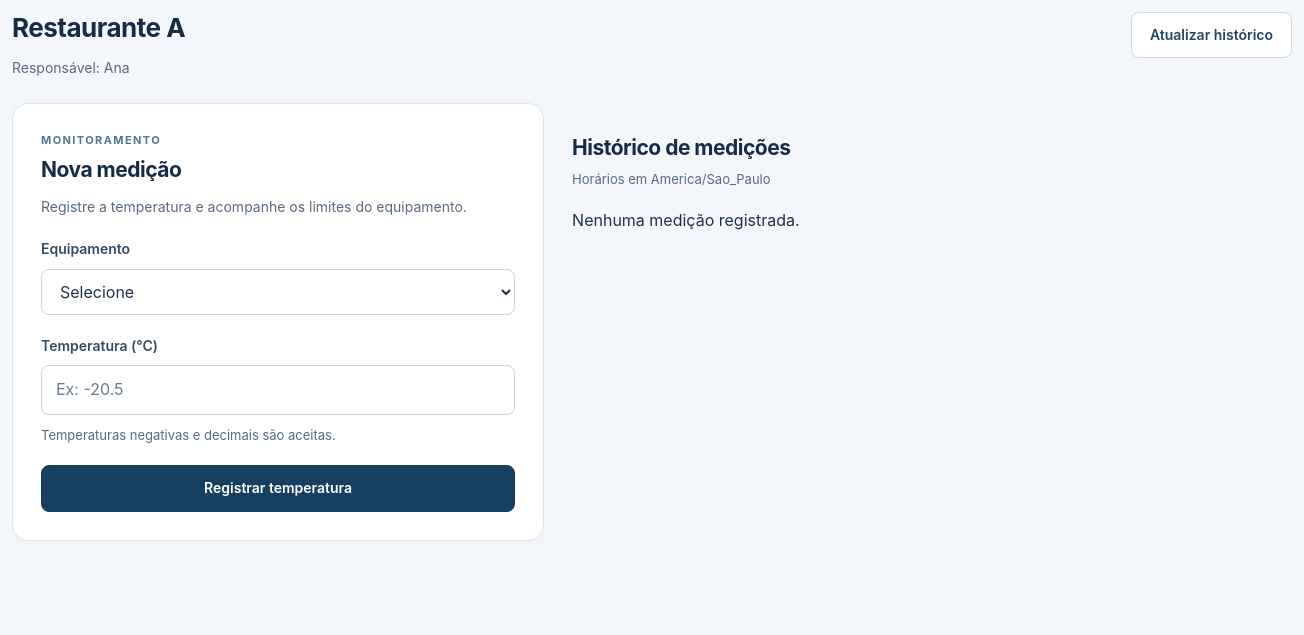
Test: medições compartilhadas › não anuncia sucesso antes da confirmação e impede envio duplicado pendente
Expected: the heading "Restaurante A" is shown, [12, 12, 185, 43]
Step 1. Select "Freezer A" in the dropdown labelled "Equipamento" → (278, 292), box [41, 268, 515, 314]
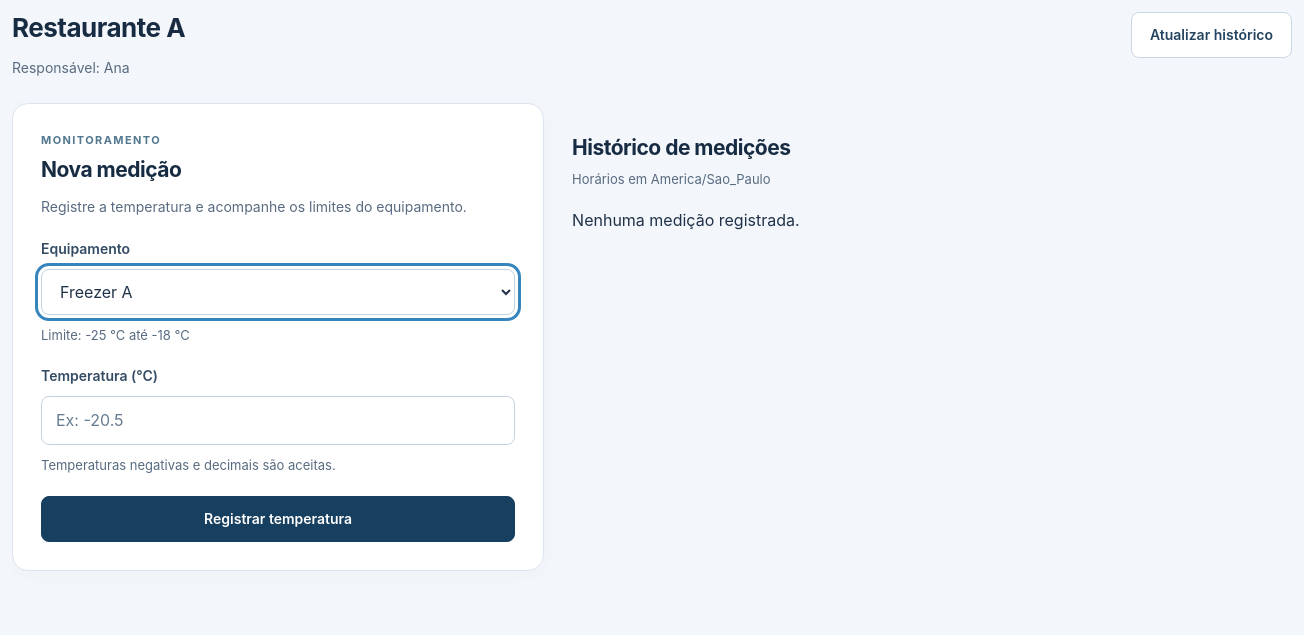
Step 2. Type "-20" into the number field labelled "Temperatura (°C)" → (278, 420), box [41, 396, 515, 445]
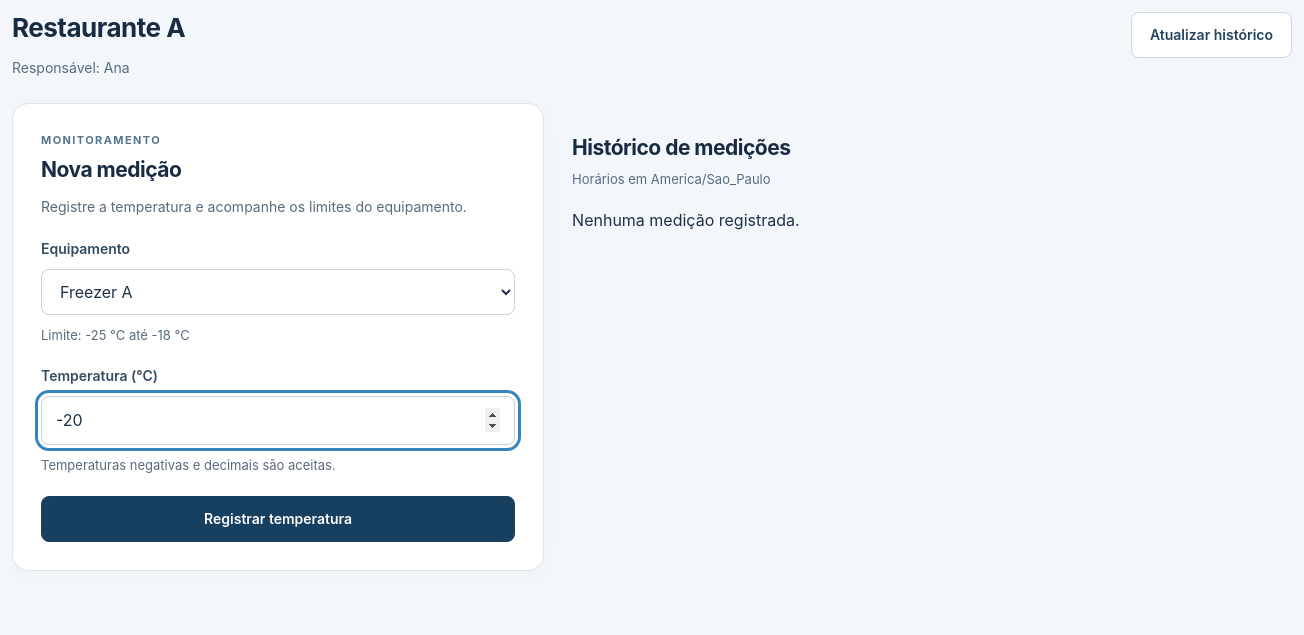
Step 3. Click the button "Registrar temperatura" → (278, 519), box [41, 496, 515, 542]
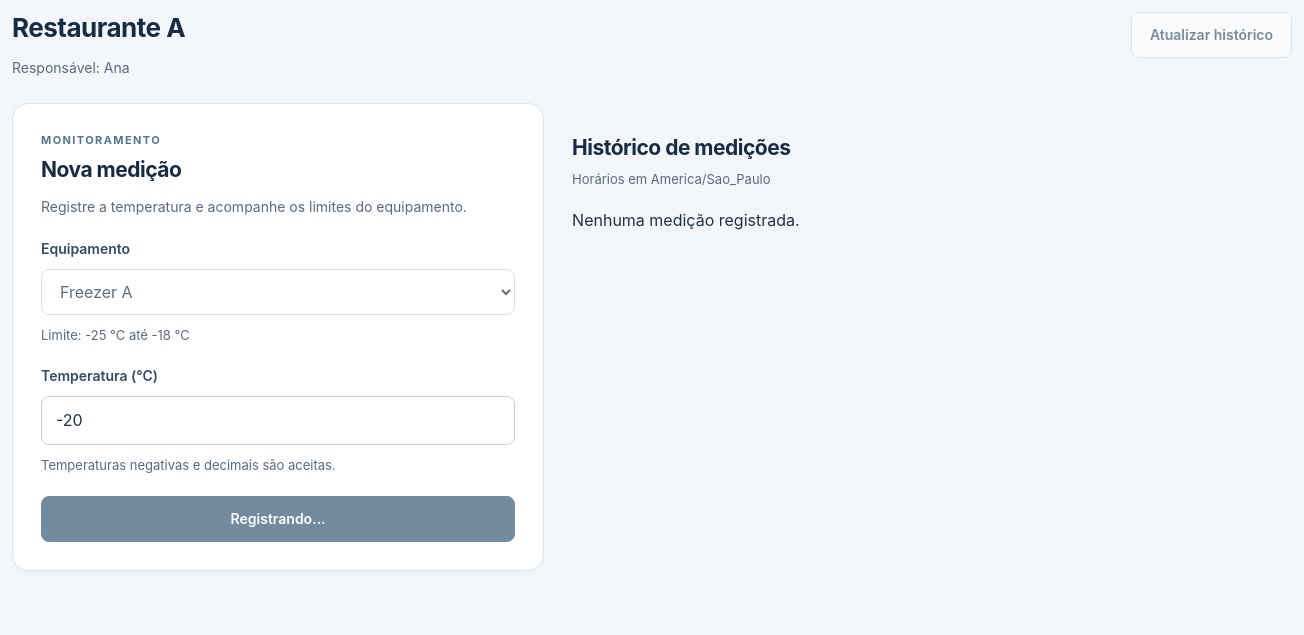
Expected: the button "Registrando…" is disabled, [41, 496, 515, 542]
Step 4. Submit the form named "Registrar medição", box [12, 103, 544, 572]
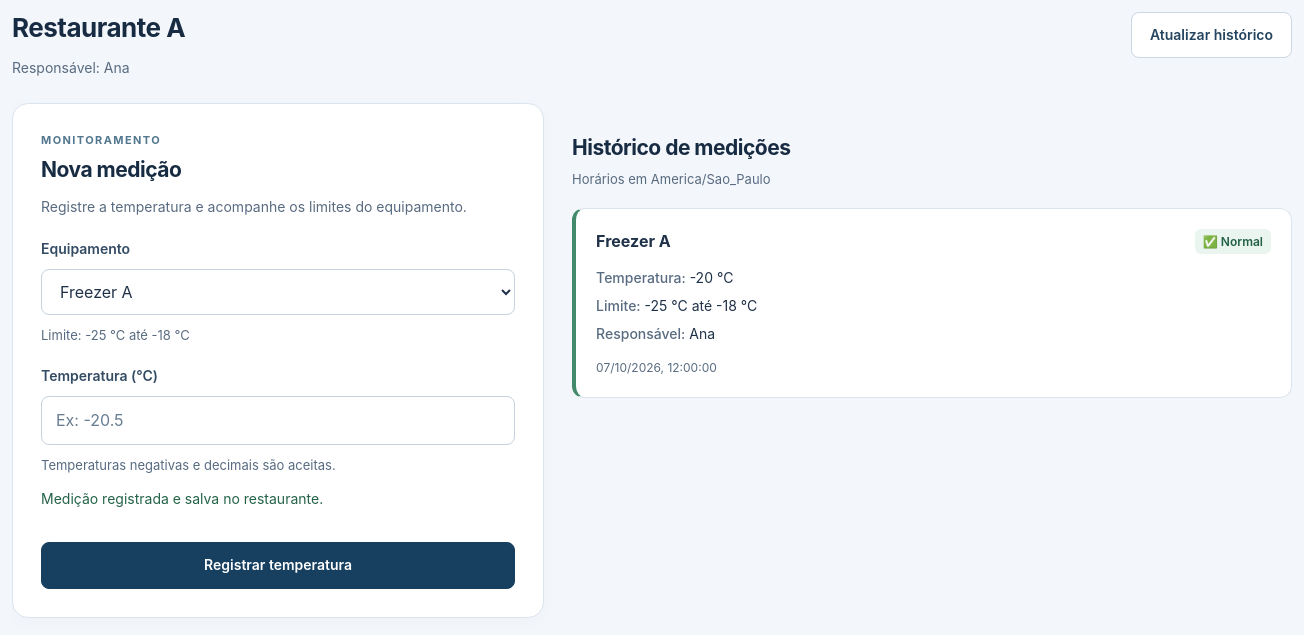
Expected: the element that starts with "Freezer A" is shown, [572, 208, 1292, 398]
